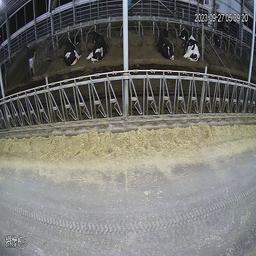cow: (179, 27, 202, 62), (89, 31, 110, 61), (65, 30, 81, 67), (158, 29, 175, 63)
